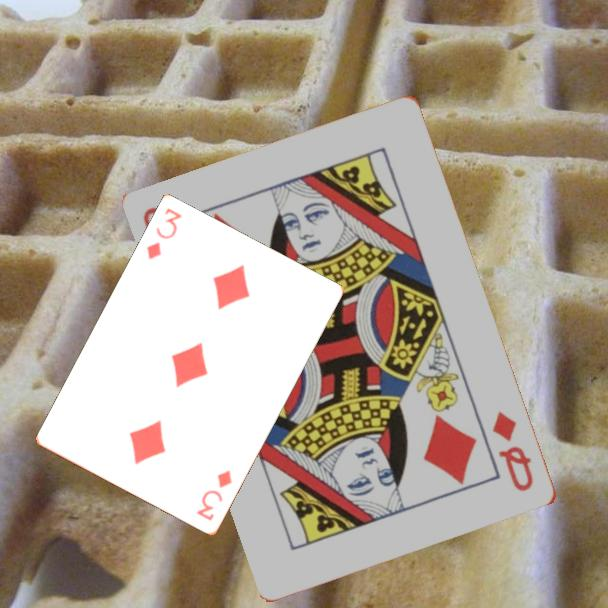d03: (143, 205, 185, 263), (193, 467, 235, 524)
d12: (489, 407, 537, 495)
